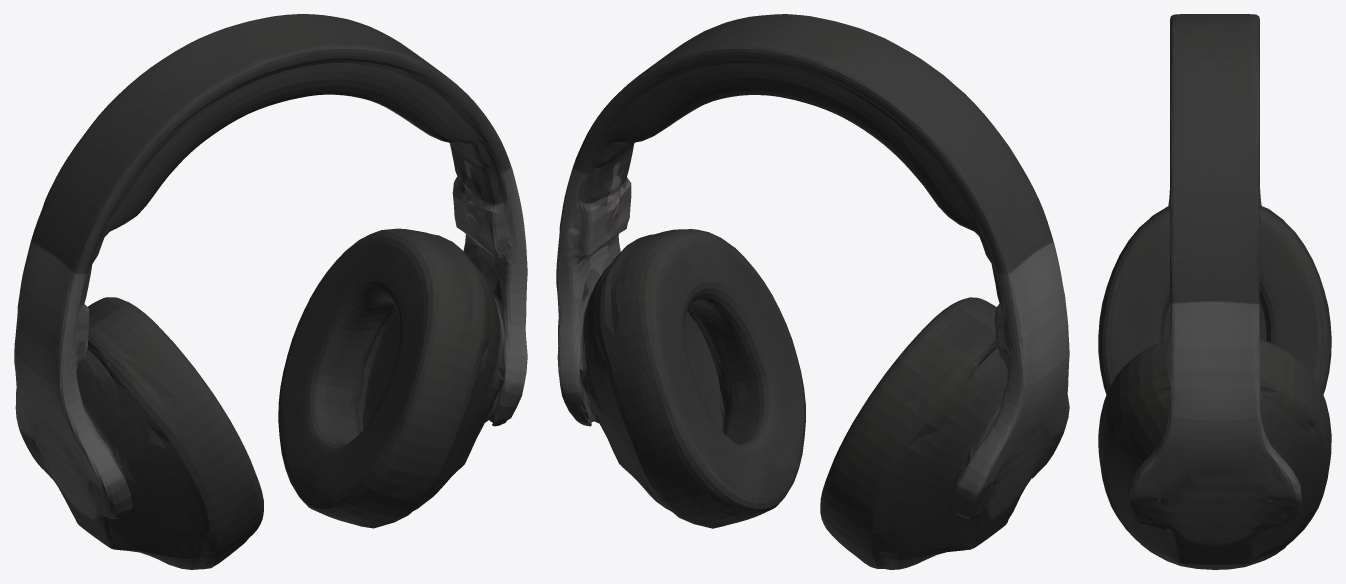
The model's file is headphone_scaled.glb.
The picture shows the model from 3 angles, left to right: view 1: azimuth 30°, elevation 25°; view 2: azimuth 150°, elevation 25°; view 3: azimuth 270°, elevation 25°; orthographic projection. The views are drawn at different scales.
Parts seen in each view (by area): view 1: model; view 2: model; view 3: model.
Boxes of the visible parts, <box> form: model: <box>14,14,527,569</box>; model: <box>556,14,1069,569</box>; model: <box>1098,14,1331,569</box>.
Size of the model in its own units: 0.2927 by 0.2998 by 0.1307.
Materials: 1 (1 with a texture image).
